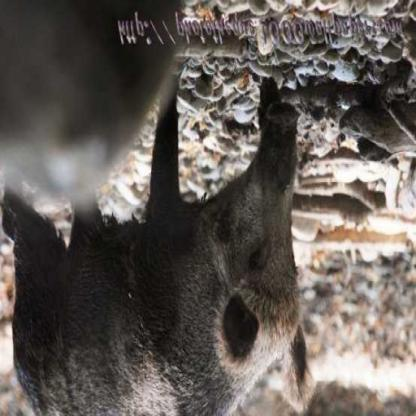boar: (9, 110, 376, 416)
